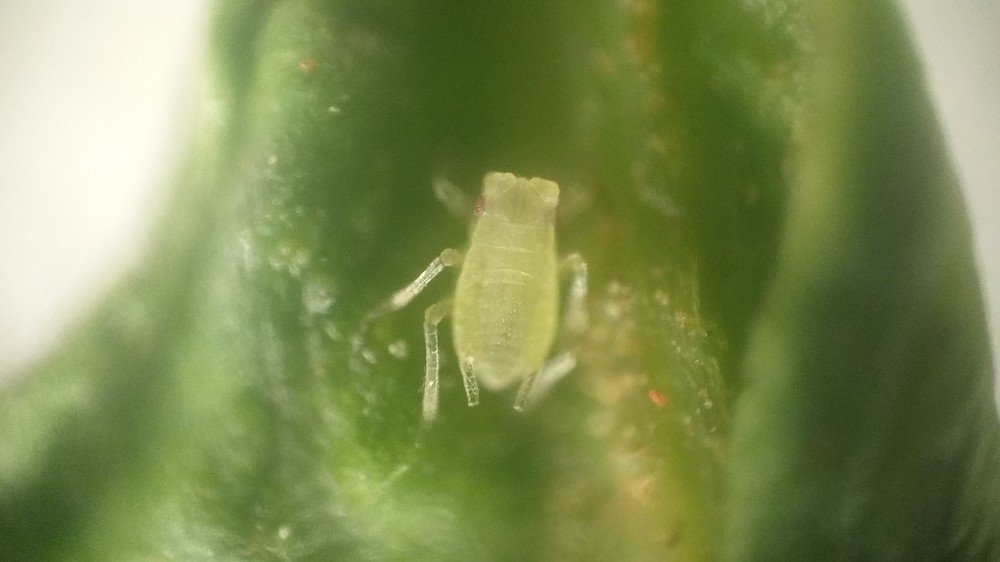Pulgon: (368, 148, 632, 449)
